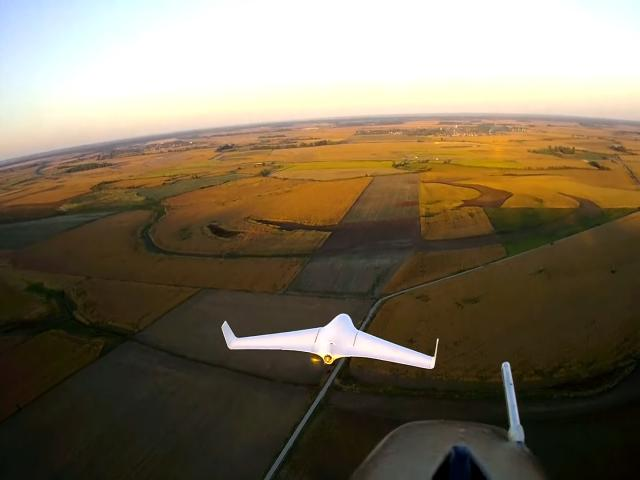plane: (222, 312, 438, 372)
